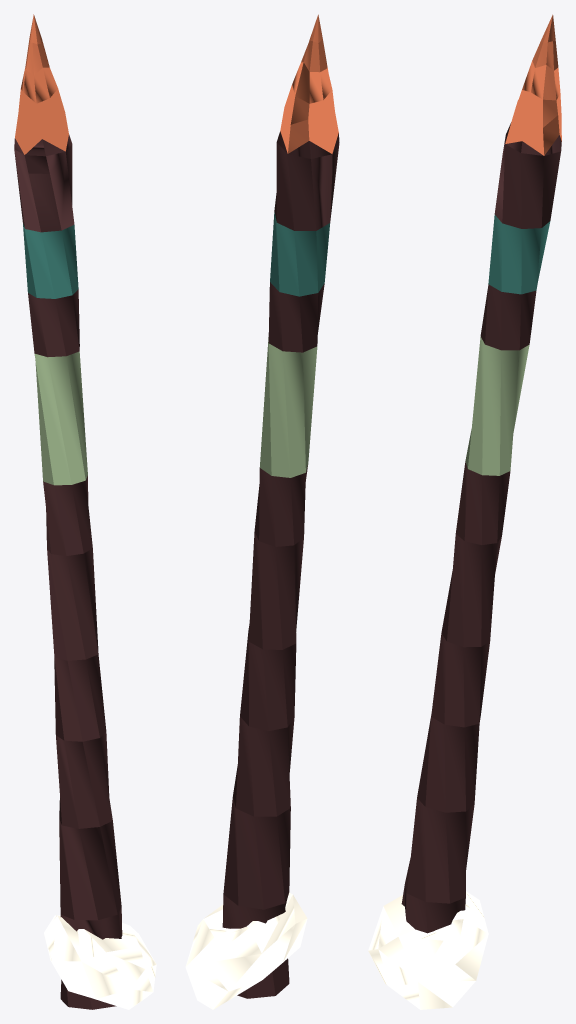
The model's file is HuntsmanWoodspear3.fbx.
3 renders of one model, left to right at view 1: azimuth 30°, elevation 25°; view 2: azimuth 210°, elevation 25°; view 3: azimuth 270°, elevation 25°, orthographic. The views are drawn at different scales.
Parts seen in each view (by area): view 1: Woodspear3; view 2: Woodspear3; view 3: Woodspear3.
Boxes of the visible parts, left/top/right/bottom form: Woodspear3: left=14, top=14, right=156, bottom=1009; Woodspear3: left=185, top=14, right=339, bottom=1009; Woodspear3: left=368, top=14, right=561, bottom=1009.
Bounding box in the file's own units: 93.16 × 812 × 147.
